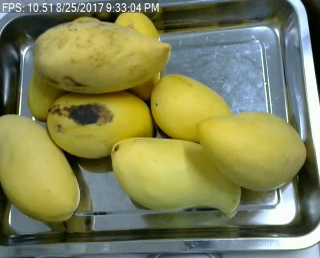Mango: (35, 19, 170, 97), (112, 135, 241, 213), (197, 109, 307, 192), (0, 112, 80, 222), (46, 88, 156, 160), (151, 72, 233, 145), (113, 10, 161, 97), (28, 67, 81, 120)
